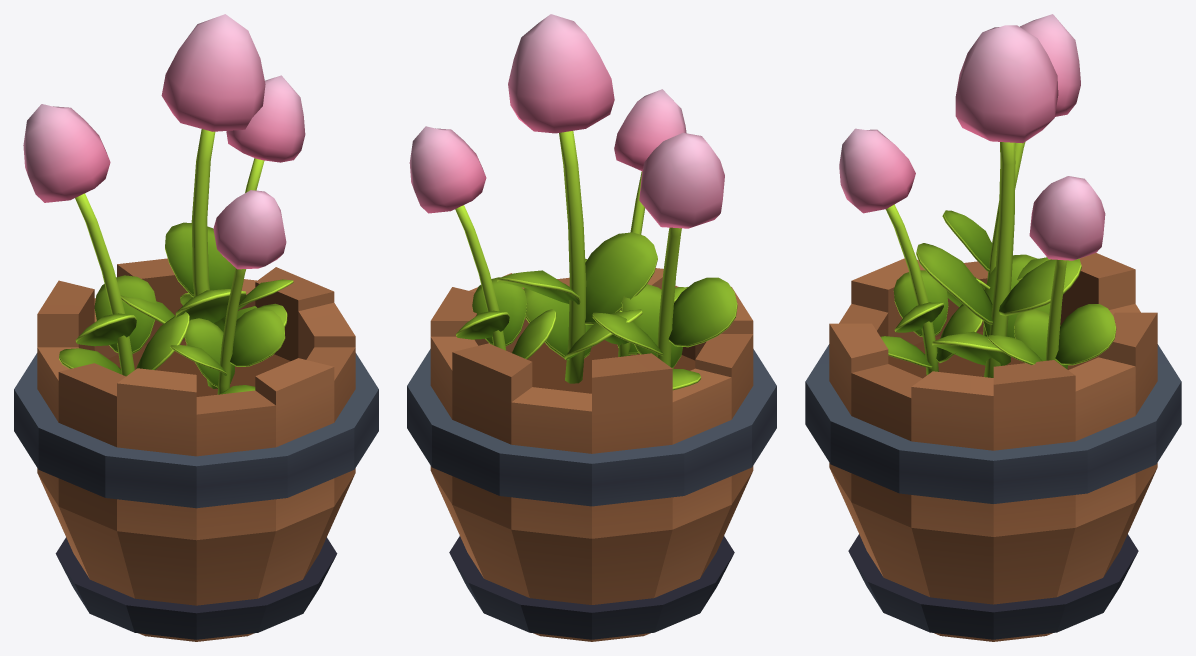
The model's file is mt_prop_plant05.fbx.
3 renders of one model, left to right at view 1: azimuth 30°, elevation 25°; view 2: azimuth 150°, elevation 25°; view 3: azimuth 270°, elevation 25°, orthographic. The views are drawn at different scales.
Parts seen in each view (by area): view 1: prop_plant05; view 2: prop_plant05; view 3: prop_plant05.
Part boxes in pixels (x1,y1,x2,y2): prop_plant05: (14,14,378,641); prop_plant05: (407,14,776,641); prop_plant05: (805,14,1181,641).
Size of the model in its own units: 89.65 by 155 by 89.65.
